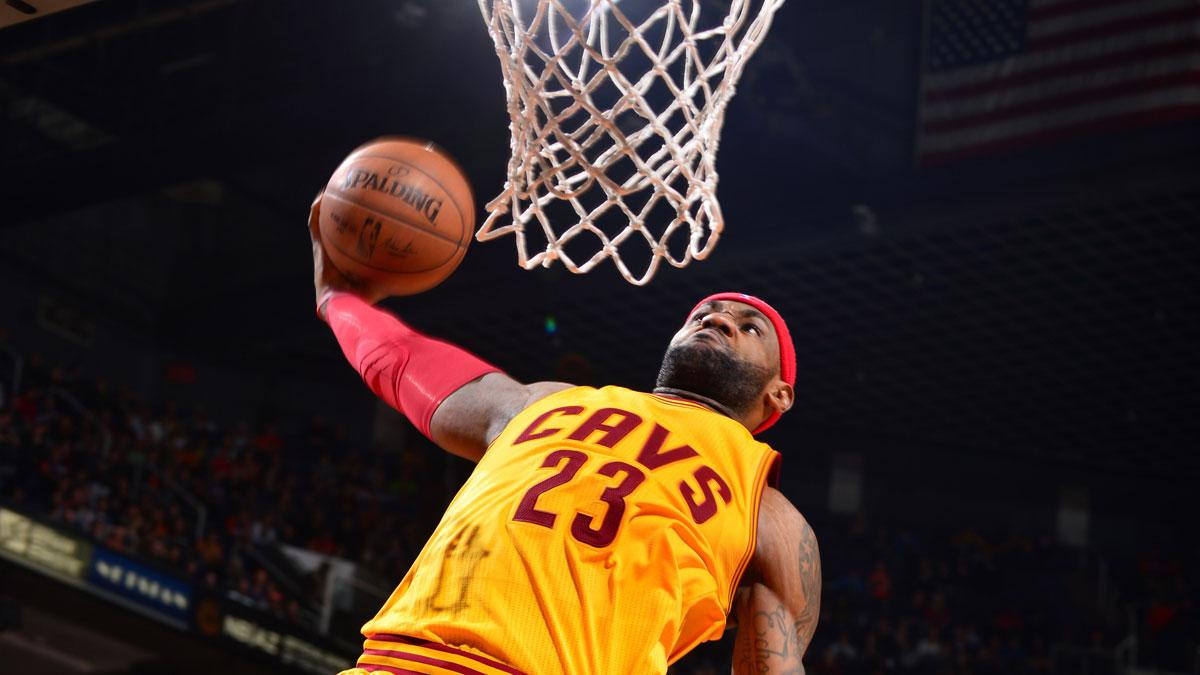basketball: (311, 133, 476, 294)
